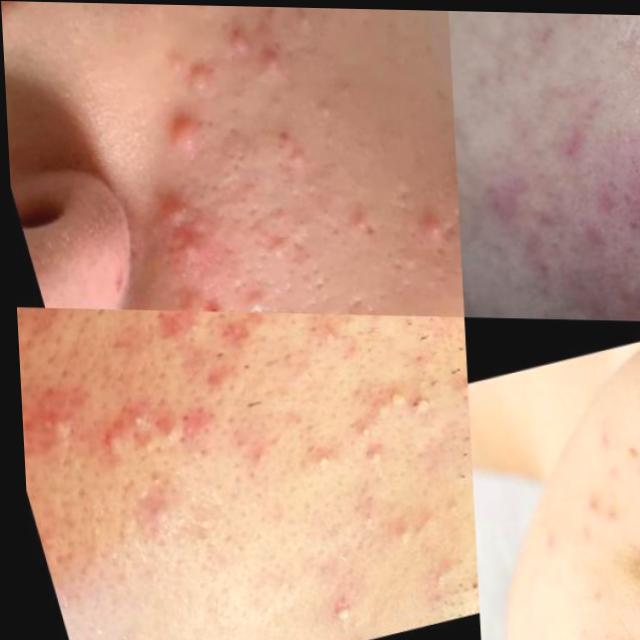8: (148, 106, 209, 169), (136, 183, 198, 238), (164, 42, 220, 101)
9: (406, 184, 454, 234), (221, 14, 259, 58), (112, 400, 151, 435), (255, 39, 291, 76)
blackheads: (16, 388, 69, 453), (155, 263, 210, 309), (631, 196, 640, 233)
dark spot: (127, 456, 172, 501)
pustules: (599, 97, 640, 206)
whiteheads: (286, 425, 336, 484), (312, 582, 362, 637), (367, 372, 417, 421), (401, 375, 434, 422), (348, 438, 386, 475)
